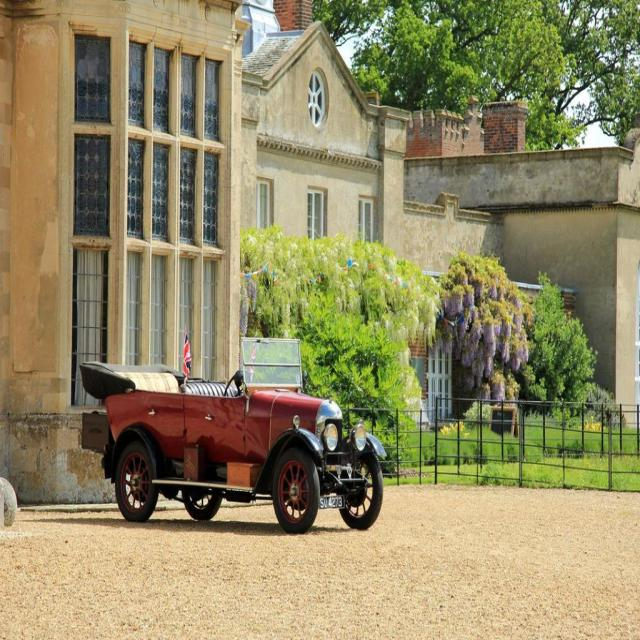car: (80, 323, 386, 534)
